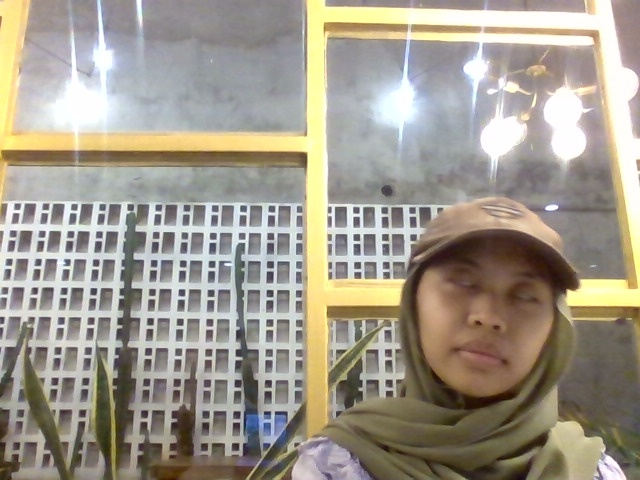Drowsy: (389, 186, 580, 473)
